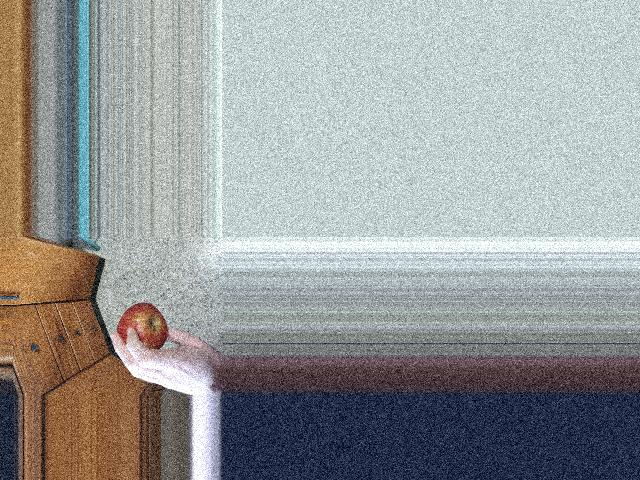apple: (110, 301, 170, 358)
